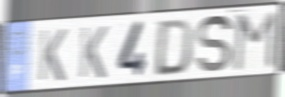4: (116, 19, 151, 81)
D: (151, 17, 196, 78)
K: (77, 25, 109, 81), (36, 28, 68, 83)
M: (231, 9, 279, 73)
S: (195, 13, 234, 75)
